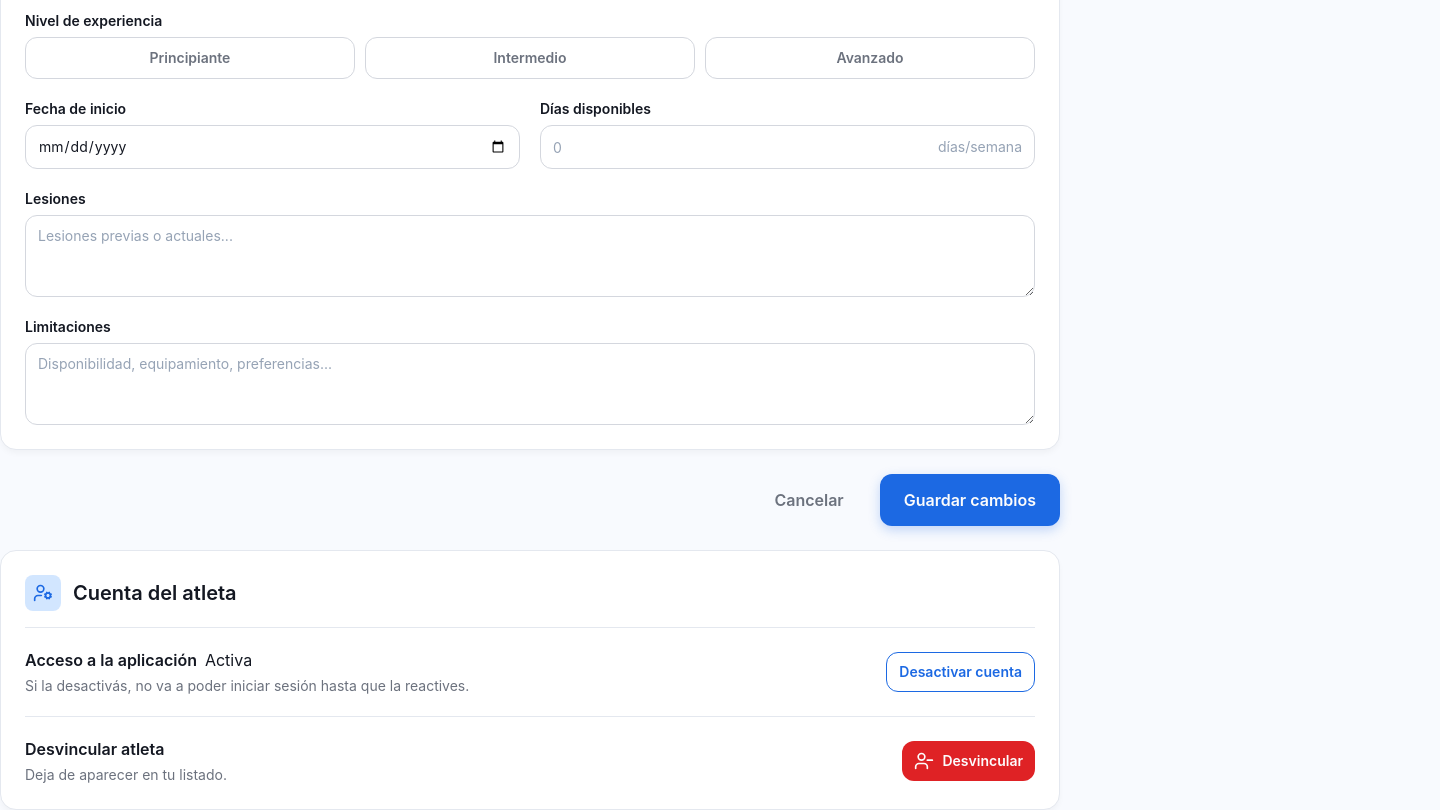
Scenario: EditAthletePage › muestra el mensaje del backend si el email ya existe
(page scrolled)
Click the button "Guardar cambios". click: {"x": 970, "y": 500}
box: [880,474,1060,526]
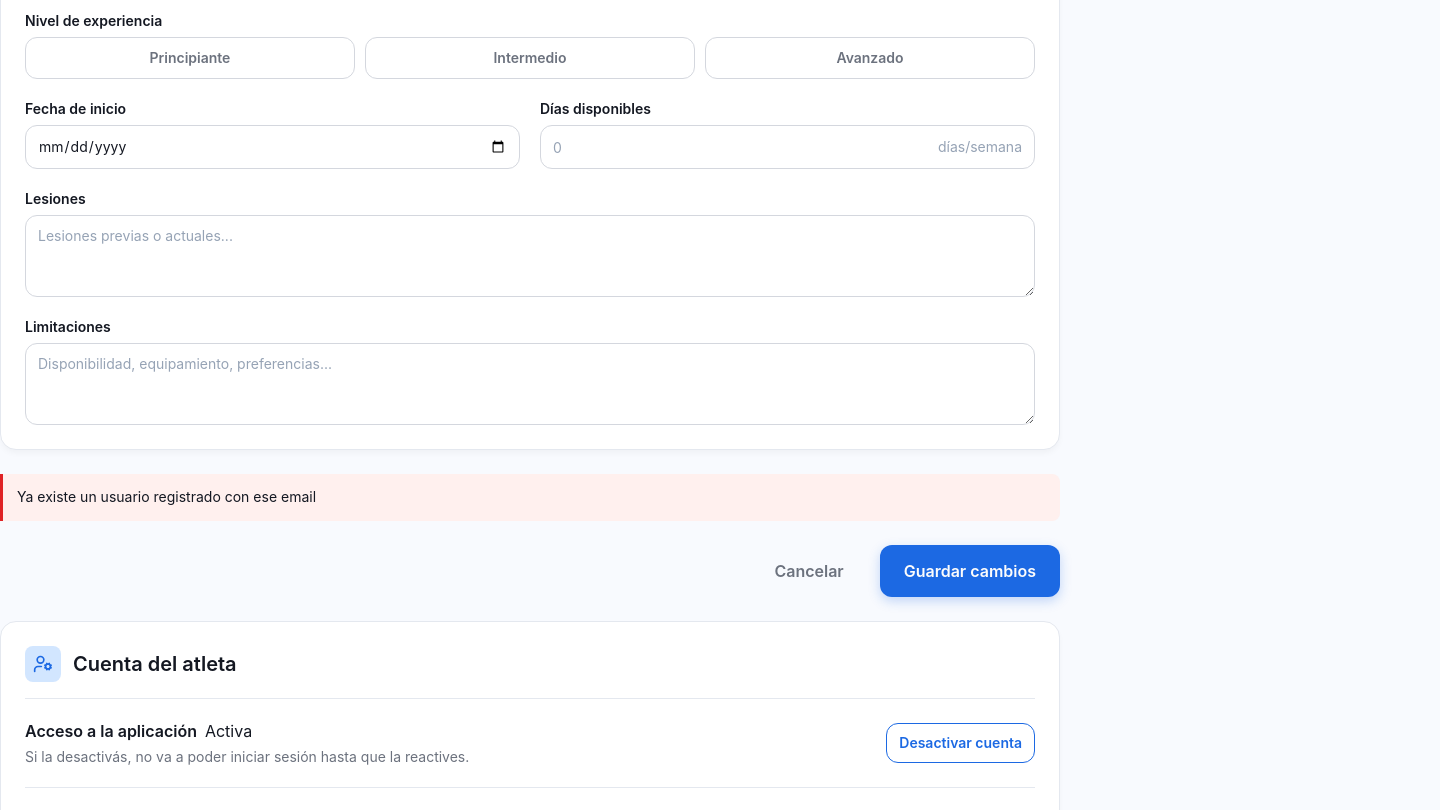
Expected: the message reads "Ya existe un usuario registrado con ese email", [17,488,316,505]
